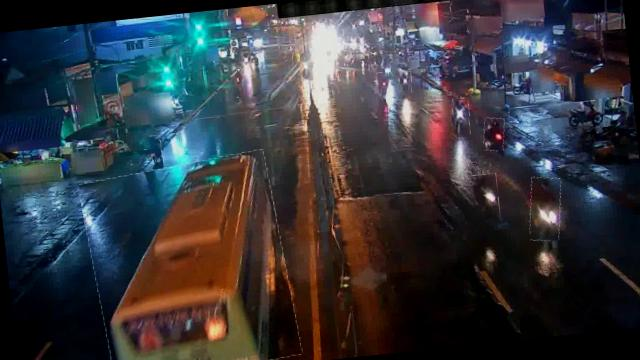Bike: (525, 175, 565, 242), (471, 173, 500, 221), (560, 100, 604, 130), (482, 117, 506, 152), (451, 98, 471, 136), (375, 72, 392, 100), (149, 136, 163, 166), (397, 71, 412, 94)
Bus: (81, 151, 299, 360)
